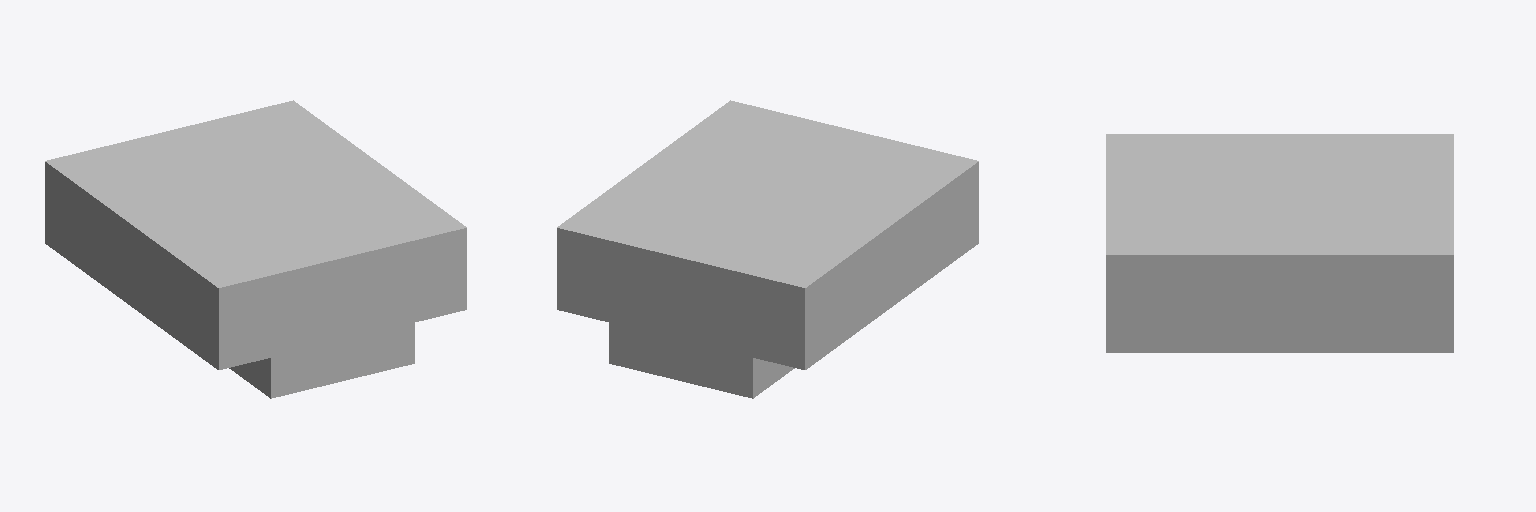
Rendered from TankDriveSeat.obj.
3 renders of one model, left to right at view 1: azimuth 30°, elevation 25°; view 2: azimuth 150°, elevation 25°; view 3: azimuth 270°, elevation 25°, orthographic.
Bounding box in the file's own units: 19 × 9 × 23.